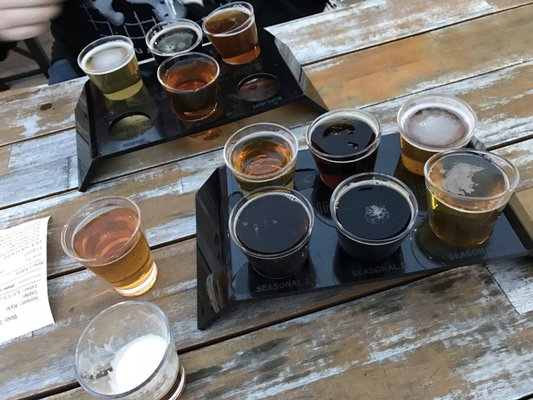pizza: (73, 300, 185, 400), (59, 195, 157, 297), (423, 149, 519, 249), (397, 94, 478, 176), (76, 35, 143, 101), (156, 52, 220, 121), (202, 1, 261, 66)
sushi: (73, 299, 185, 400), (329, 171, 420, 263), (229, 187, 316, 280), (224, 122, 300, 193), (155, 51, 220, 120), (144, 19, 204, 60)
